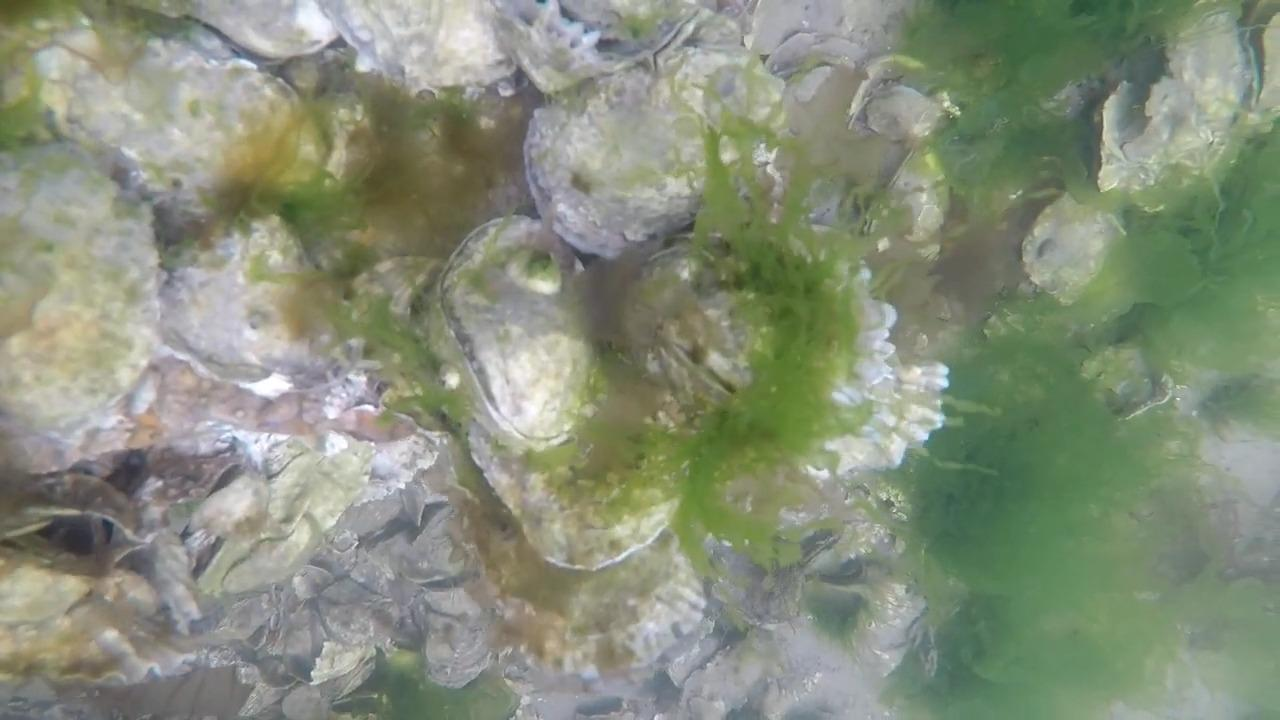Oyster: (680, 229, 956, 548), (1001, 14, 1271, 318), (744, 10, 972, 278), (524, 41, 785, 258), (29, 34, 317, 212), (449, 485, 705, 672), (0, 149, 160, 434), (470, 395, 694, 579), (440, 216, 596, 444), (156, 210, 344, 397), (1124, 381, 1279, 598), (178, 437, 377, 603), (340, 93, 529, 249), (681, 599, 917, 720), (616, 237, 772, 419), (493, 2, 737, 98), (315, 0, 529, 98), (0, 560, 161, 686), (1157, 9, 1267, 161), (1118, 626, 1280, 717), (744, 2, 923, 81), (8, 27, 121, 148), (345, 250, 454, 369), (1018, 193, 1127, 305), (173, 1, 342, 63), (416, 587, 500, 689), (850, 73, 952, 149), (131, 534, 206, 632), (391, 505, 476, 589), (186, 471, 272, 544), (276, 659, 378, 720), (363, 426, 447, 497), (779, 62, 850, 130), (1040, 70, 1107, 123), (39, 22, 109, 67), (235, 679, 291, 719)
